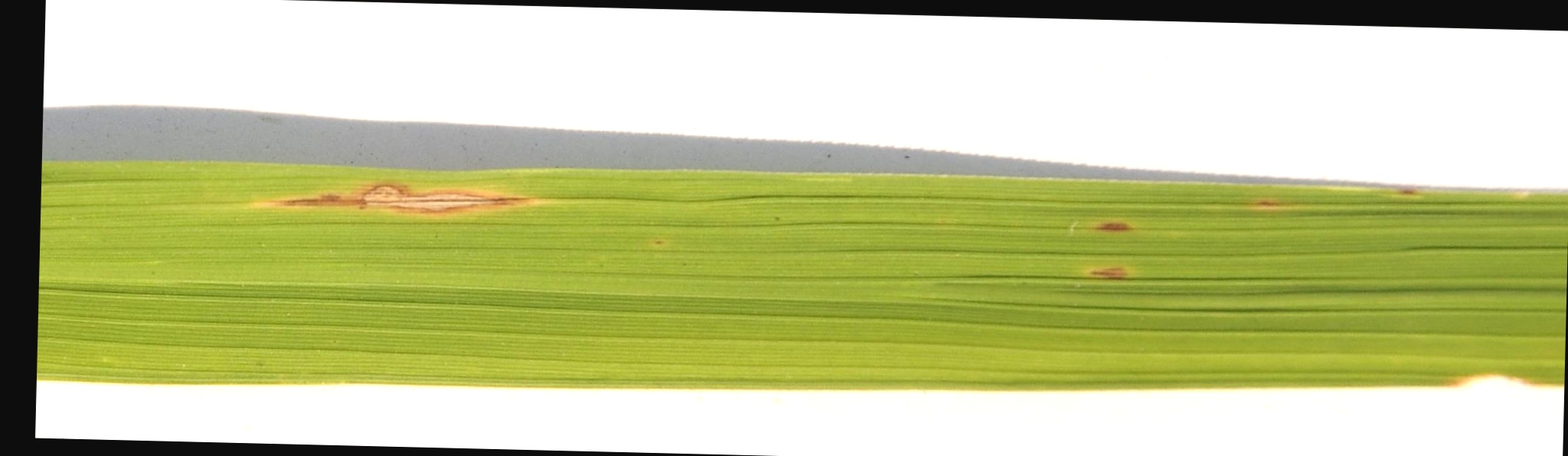Bacterial_Leaf_Blight: (185, 152, 543, 232), (1046, 198, 1165, 253), (1070, 250, 1152, 306)
